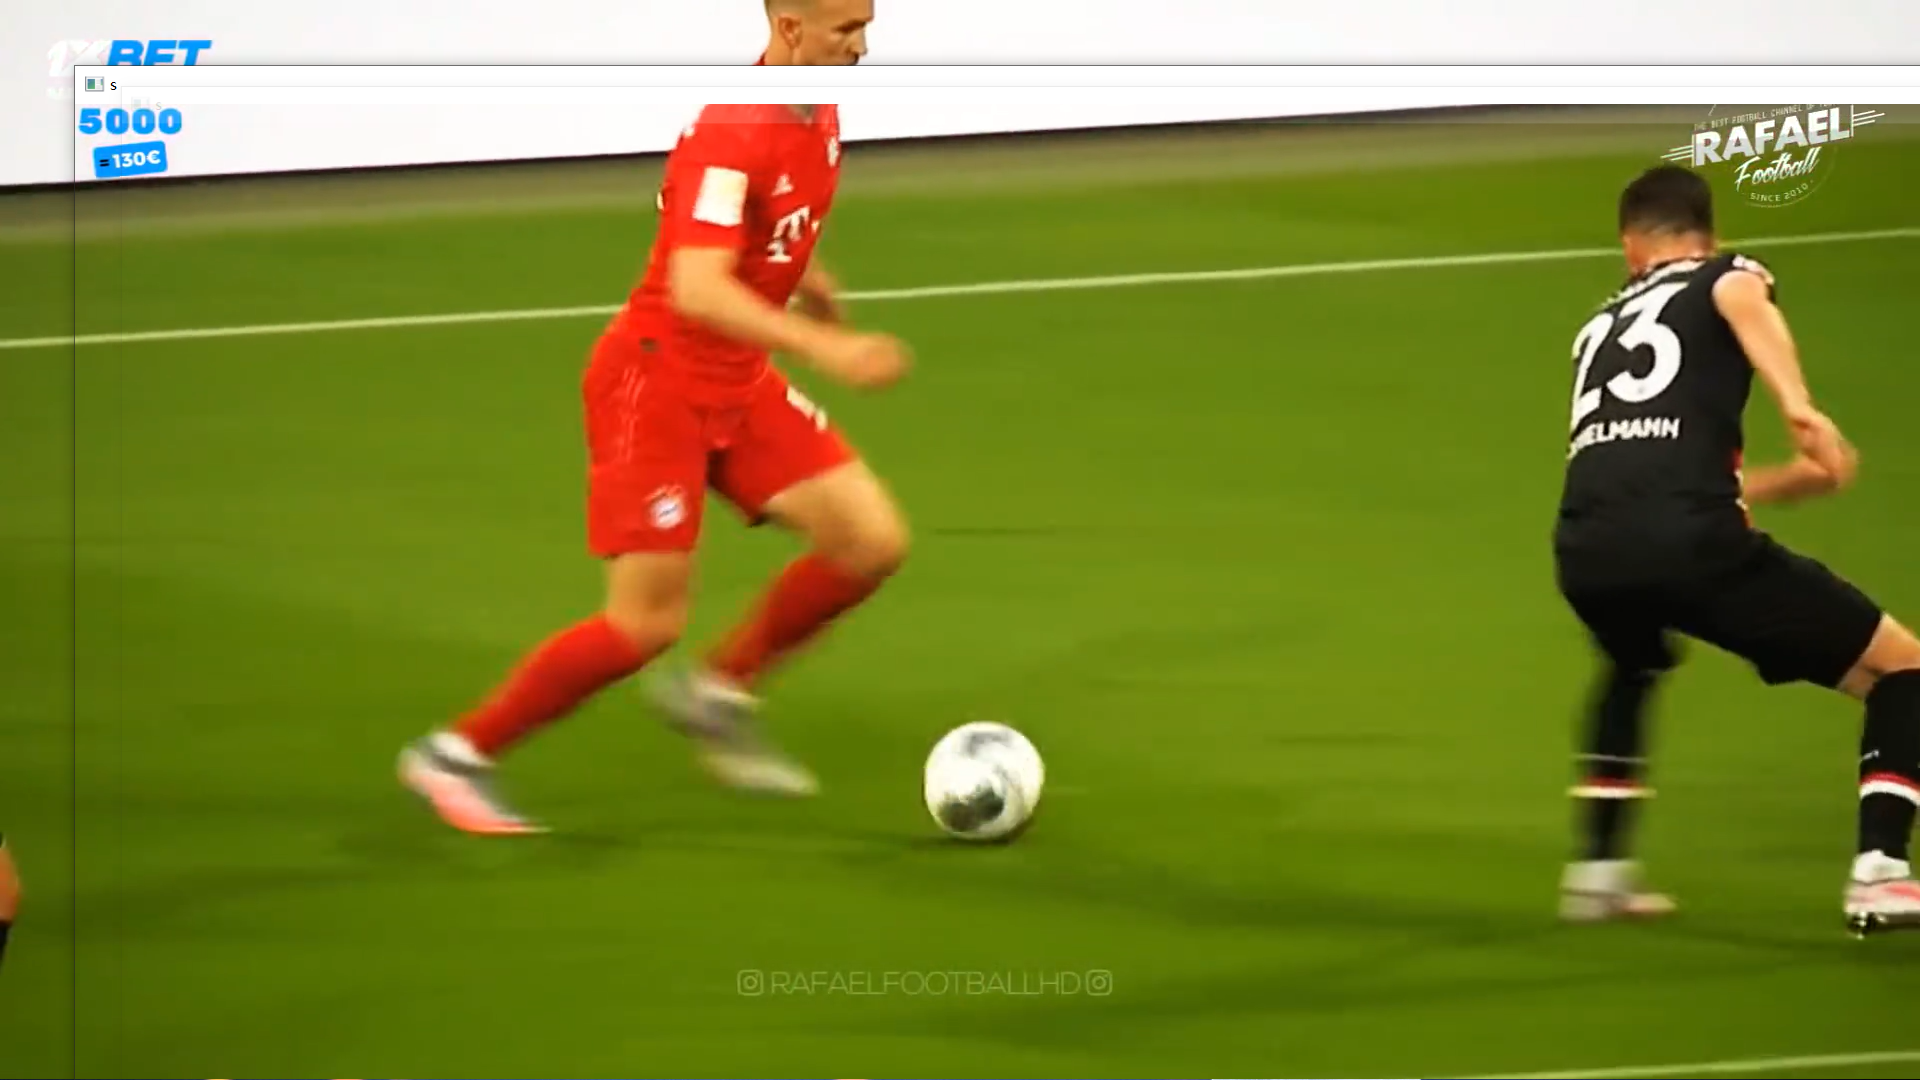ft: (913, 703, 1050, 848)
